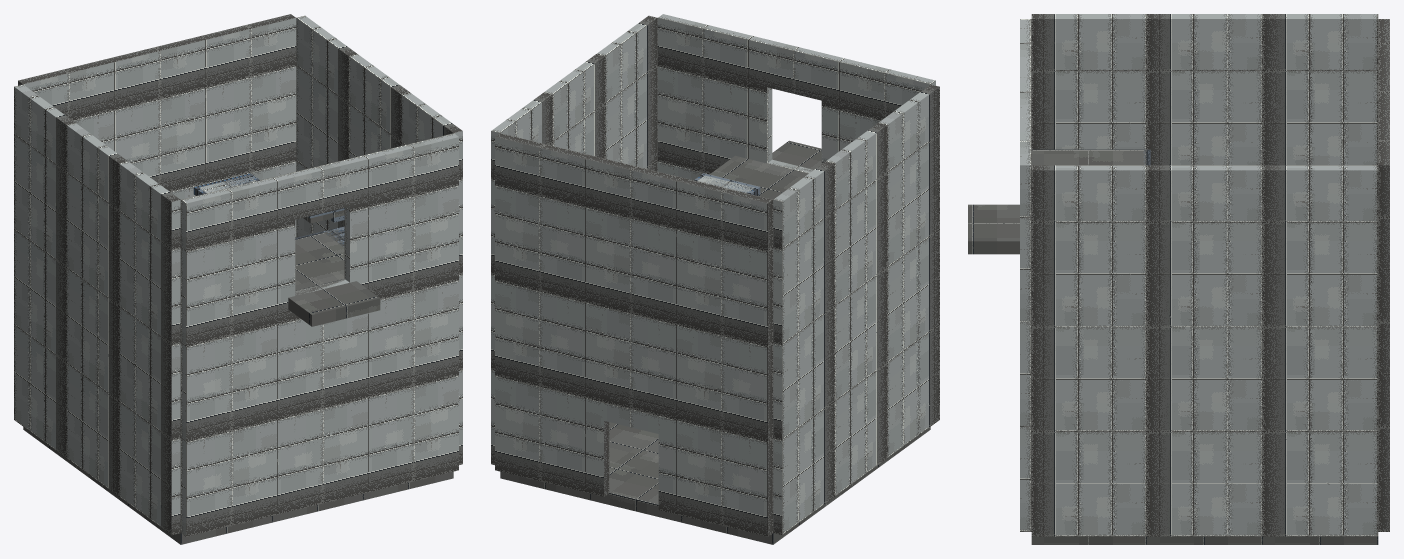
The model's file is shell_tower_spiral.glb.
The picture shows the model from 3 angles, left to right: view 1: azimuth 30°, elevation 25°; view 2: azimuth 150°, elevation 25°; view 3: azimuth 270°, elevation 25°; orthographic projection. The views are drawn at different scales.
Visible parts, largest first — view 1: shell_tower_spiral; view 2: shell_tower_spiral; view 3: shell_tower_spiral.
Boxes of the visible parts, left/top/right/bottom form: shell_tower_spiral: left=14, top=14, right=462, bottom=544; shell_tower_spiral: left=491, top=14, right=939, bottom=544; shell_tower_spiral: left=968, top=14, right=1389, bottom=544.
Size of what is drawn, in the model's own units: 12.8 by 14.5 by 14.6.
53 materials, 53 textured.
